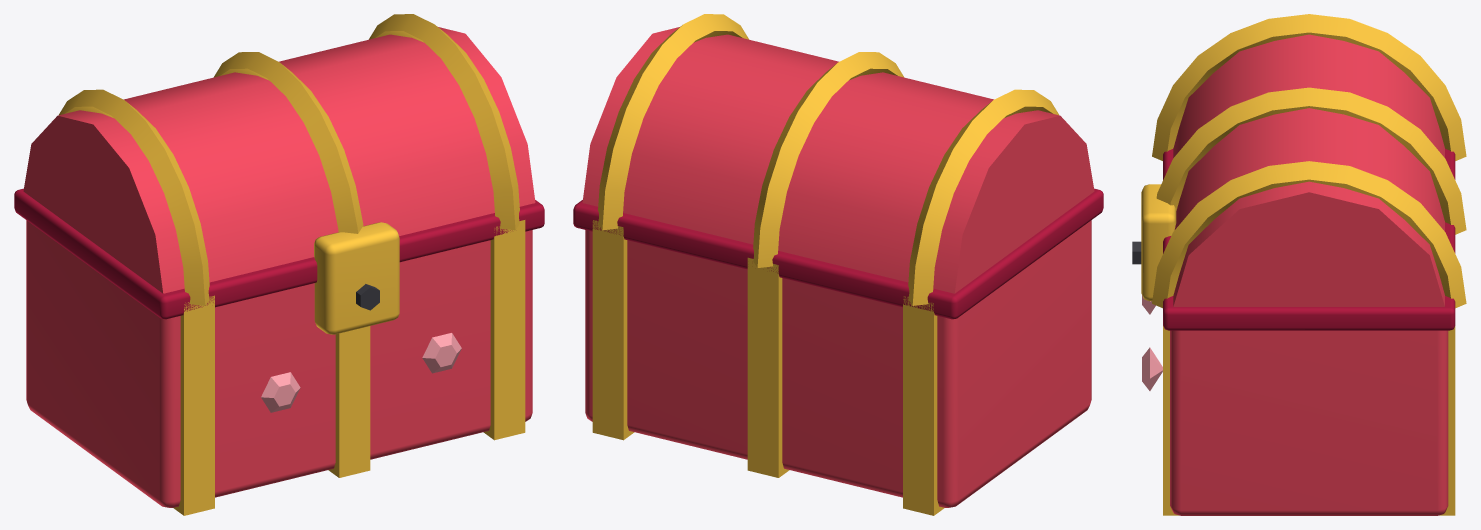
File: RubyChest.fbx
The picture shows the model from 3 angles, left to right: view 1: azimuth 30°, elevation 25°; view 2: azimuth 150°, elevation 25°; view 3: azimuth 270°, elevation 25°; orthographic projection. The views are drawn at different scales.
Parts seen in each view (by area): view 1: RubyChest; view 2: RubyChest; view 3: RubyChest.
Part boxes in pixels (x1,y1,x2,y2): RubyChest: (14, 14, 544, 515); RubyChest: (573, 14, 1103, 515); RubyChest: (1132, 14, 1466, 515).
Size of the model in its own units: 3.1 by 2.75 by 2.4.
Materials: 1 (1 with a texture image).
